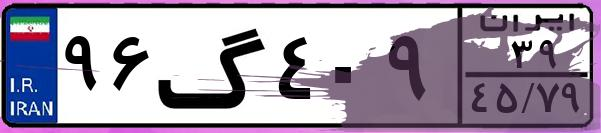0: (330, 28, 385, 110)
3: (508, 27, 537, 80)
4: (270, 28, 330, 110), (470, 70, 495, 125)
5: (495, 70, 520, 125)
6: (110, 28, 156, 98)
7: (535, 70, 560, 125)
9: (385, 28, 445, 110), (57, 26, 110, 100), (560, 70, 590, 125), (537, 27, 568, 80)
گ: (156, 12, 270, 120)
